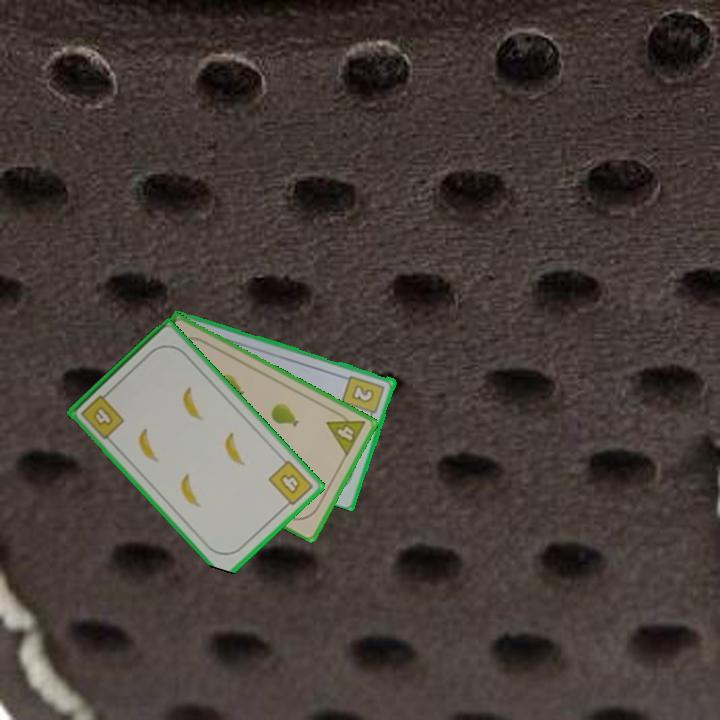2b: (339, 372, 388, 422)
4b: (265, 456, 316, 512), (77, 387, 127, 442)
4p: (323, 406, 368, 459)
